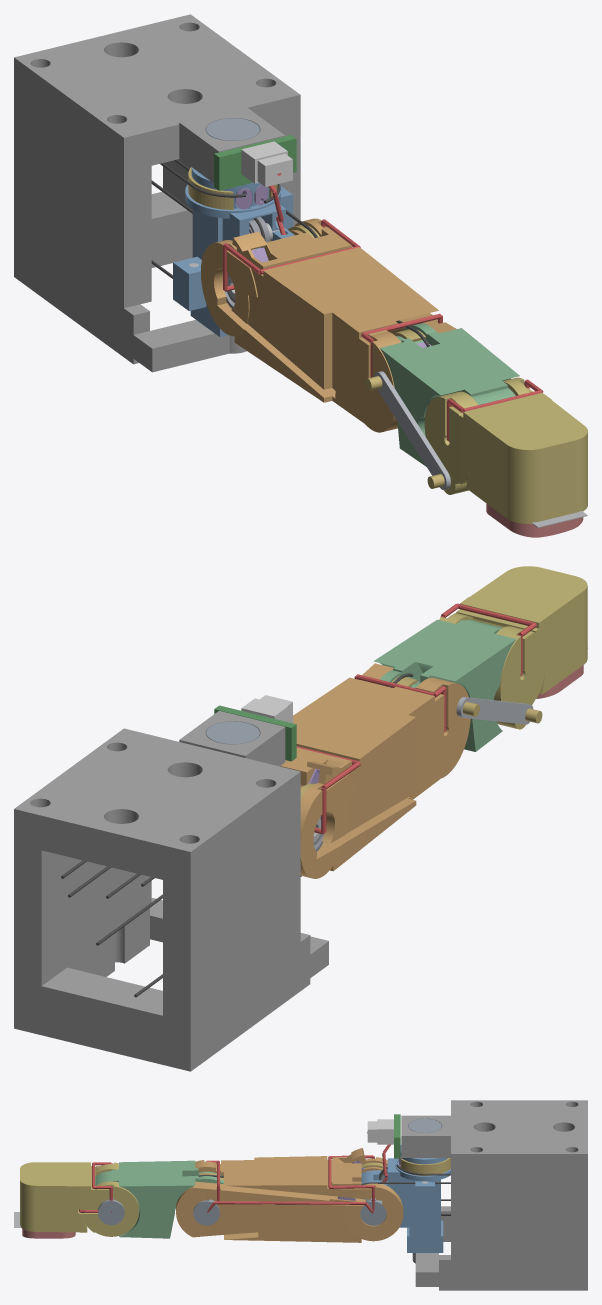
File: bench_finger_q0.glb
3 renders of one model, top to bottom at view 1: azimuth 30°, elevation 25°; view 2: azimuth 150°, elevation 25°; view 3: azimuth 270°, elevation 25°, orthographic. The views are drawn at different scales.
Parts seen in each view (by area): view 1: base, proximal, distal, middle, yoke, sensor_wire_bundle, dip_bar, knuckle_board, tip_skin, sensor_abd_cap, jst_sh_plug, jst_sh_socket (+1 smaller); view 2: base, proximal, distal, middle, sensor_wire_bundle, dip_bar, sensor_abd_cap, knuckle_board, jst_sh_socket; view 3: base, proximal, distal, middle, yoke, sensor_wire_bundle, abd_ring, sensor_dip_cap, sensor_pip_cap, sensor_mcp_cap, jst_sh_socket, sensor_abd_cap (+2 smaller).
Boxes of the visible parts, x1=… form: base: x1=14, y1=14, x2=300, y2=372; proximal: x1=201, y1=218, x2=456, y2=432; distal: x1=424, y1=377, x2=587, y2=523; middle: x1=380, y1=323, x2=519, y2=466; yoke: x1=173, y1=167, x2=294, y2=337; sensor_wire_bundle: x1=223, y1=173, x2=543, y2=441; dip_bar: x1=374, y1=371, x2=450, y2=489; knuckle_board: x1=214, y1=135, x2=296, y2=190; tip_skin: x1=486, y1=503, x2=583, y2=537; sensor_abd_cap: x1=206, y1=118, x2=259, y2=140; jst_sh_plug: x1=257, y1=154, x2=292, y2=186; jst_sh_socket: x1=241, y1=141, x2=287, y2=183; base: x1=14, y1=710, x2=328, y2=1071; proximal: x1=280, y1=663, x2=470, y2=878; distal: x1=439, y1=566, x2=587, y2=729; middle: x1=373, y1=619, x2=516, y2=751; sensor_wire_bundle: x1=296, y1=603, x2=536, y2=834; dip_bar: x1=456, y1=697, x2=533, y2=724; sensor_abd_cap: x1=206, y1=721, x2=259, y2=744; knuckle_board: x1=214, y1=705, x2=296, y2=761; jst_sh_socket: x1=241, y1=698, x2=287, y2=721; base: x1=401, y1=1100, x2=587, y2=1290; proximal: x1=176, y1=1148, x2=403, y2=1242; distal: x1=20, y1=1162, x2=138, y2=1236; middle: x1=95, y1=1160, x2=223, y2=1238; yoke: x1=361, y1=1145, x2=450, y2=1252; sensor_wire_bundle: x1=79, y1=1132, x2=390, y2=1213; abd_ring: x1=400, y1=1158, x2=450, y2=1175; sensor_dip_cap: x1=98, y1=1198, x2=124, y2=1224; sensor_pip_cap: x1=193, y1=1199, x2=219, y2=1225; sensor_mcp_cap: x1=360, y1=1198, x2=386, y2=1225; jst_sh_socket: x1=377, y1=1119, x2=393, y2=1144; sensor_abd_cap: x1=408, y1=1118, x2=441, y2=1132.
Size of the model in its own units: 32 by 38.75 by 144.
